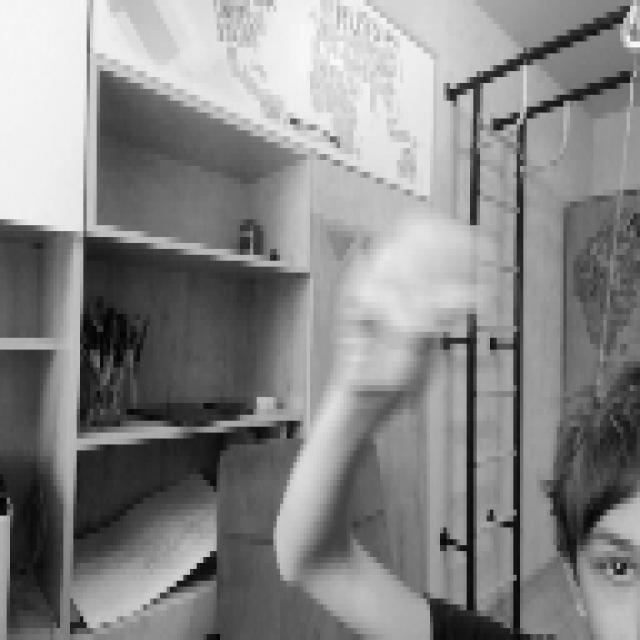left_click: (330, 196, 493, 403)
